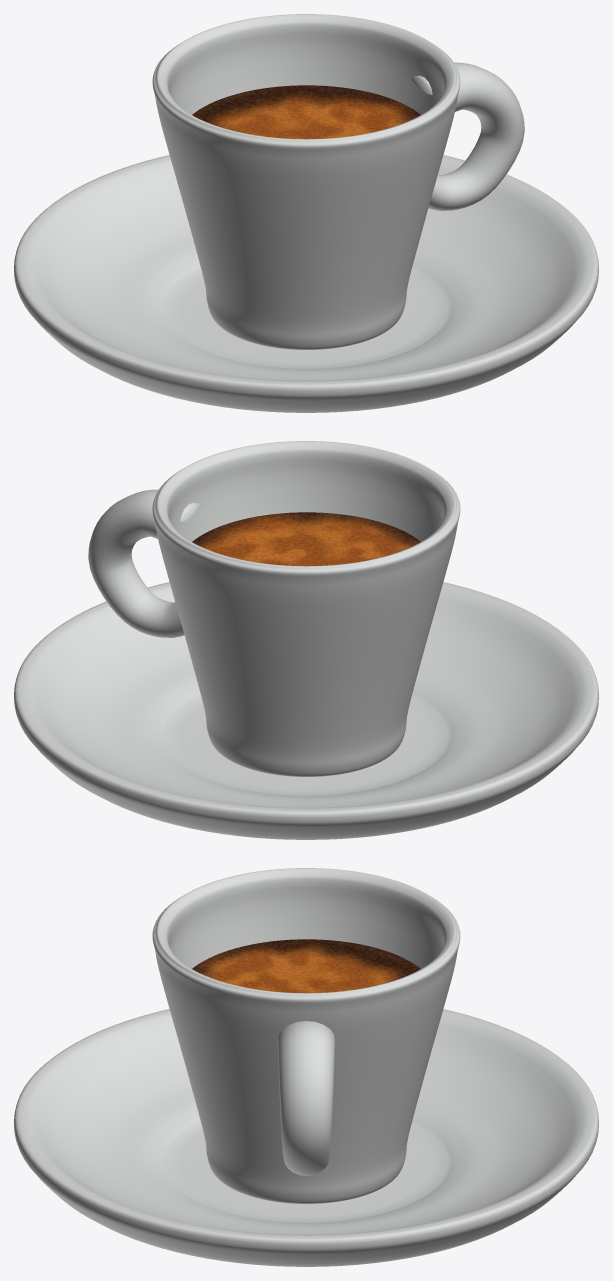
Rendered from alba-espresso.glb.
3 renders of one model, top to bottom at view 1: azimuth 30°, elevation 25°; view 2: azimuth 150°, elevation 25°; view 3: azimuth 270°, elevation 25°, orthographic.
Parts seen in each view (by area): view 1: Saucer • recessed well and rounded foot, Cup • porcelain wall, rolled lip and interior, Liquid surface • curved meniscus, Cup handle • molded ceramic; view 2: Saucer • recessed well and rounded foot, Cup • porcelain wall, rolled lip and interior, Liquid surface • curved meniscus, Cup handle • molded ceramic; view 3: Saucer • recessed well and rounded foot, Cup • porcelain wall, rolled lip and interior, Liquid surface • curved meniscus, Cup handle • molded ceramic.
Part boxes in pixels (box(x1,y1,x2,y2)): Saucer • recessed well and rounded foot: box(14, 155, 598, 412); Cup • porcelain wall, rolled lip and interior: box(152, 14, 460, 349); Liquid surface • curved meniscus: box(192, 85, 420, 139); Cup handle • molded ceramic: box(411, 62, 524, 210); Saucer • recessed well and rounded foot: box(14, 582, 598, 839); Cup • porcelain wall, rolled lip and interior: box(152, 441, 460, 776); Liquid surface • curved meniscus: box(192, 512, 420, 566); Cup handle • molded ceramic: box(88, 489, 201, 637); Saucer • recessed well and rounded foot: box(14, 1009, 598, 1266); Cup • porcelain wall, rolled lip and interior: box(152, 868, 460, 1203); Liquid surface • curved meniscus: box(192, 939, 420, 993); Cup handle • molded ceramic: box(277, 1021, 335, 1175).
Size of the model in its own units: 0.114 by 0.055 by 0.114.
Materials: 2 (1 with a texture image).
